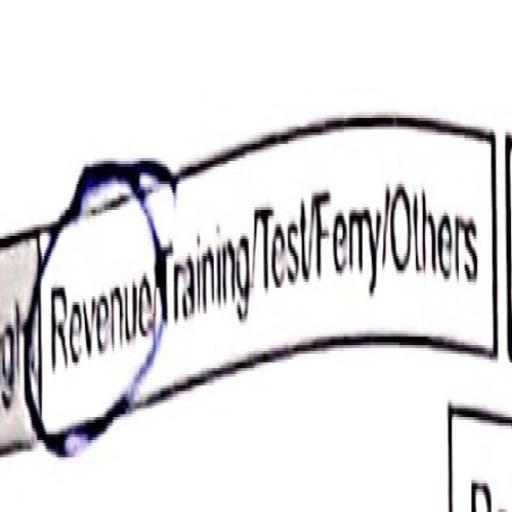check: (5, 122, 159, 491)
